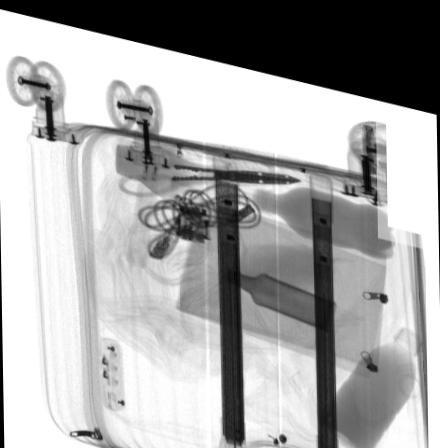Scissors: (115, 133, 305, 191)
